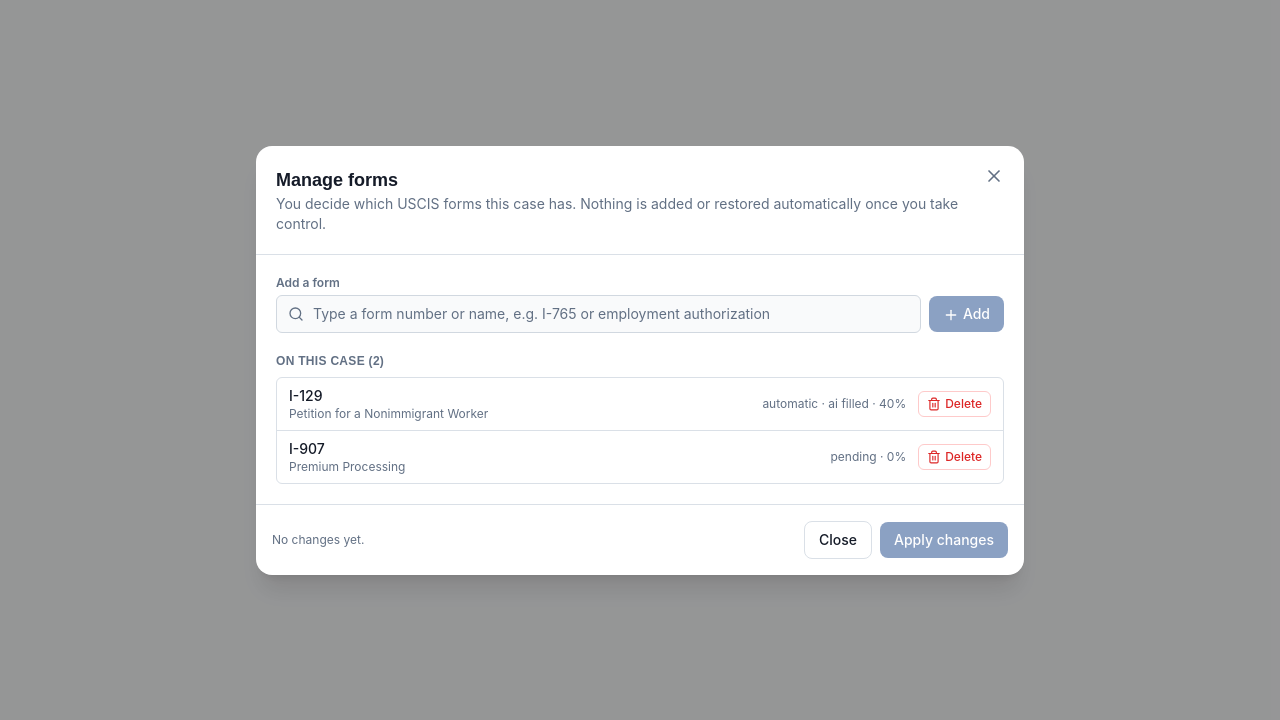
Test: Manage forms › removal is staged, and Apply stays disabled until the confirmations the form needs are given
Expected: the heading "On this case (2)" is shown, [276,354,384,368]
Click the button with aria-label "Delete I-129": (955, 404) [918,390,991,416]
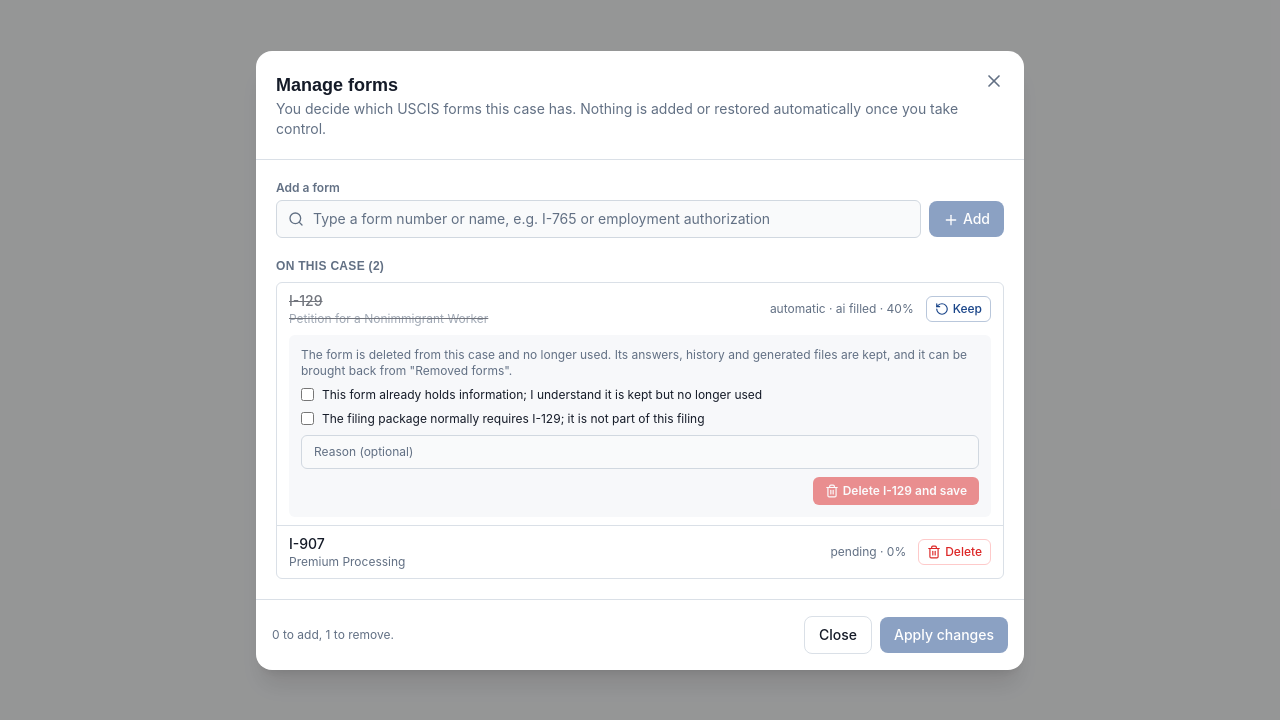
Expected: the button "Apply changes" is disabled, [880,616,1008,652]
Note: I-129 holds data and is required by the filing package: both must be acknowledged
Click the checkbox labelled "already holds information": (308, 394) [301,388,314,401]
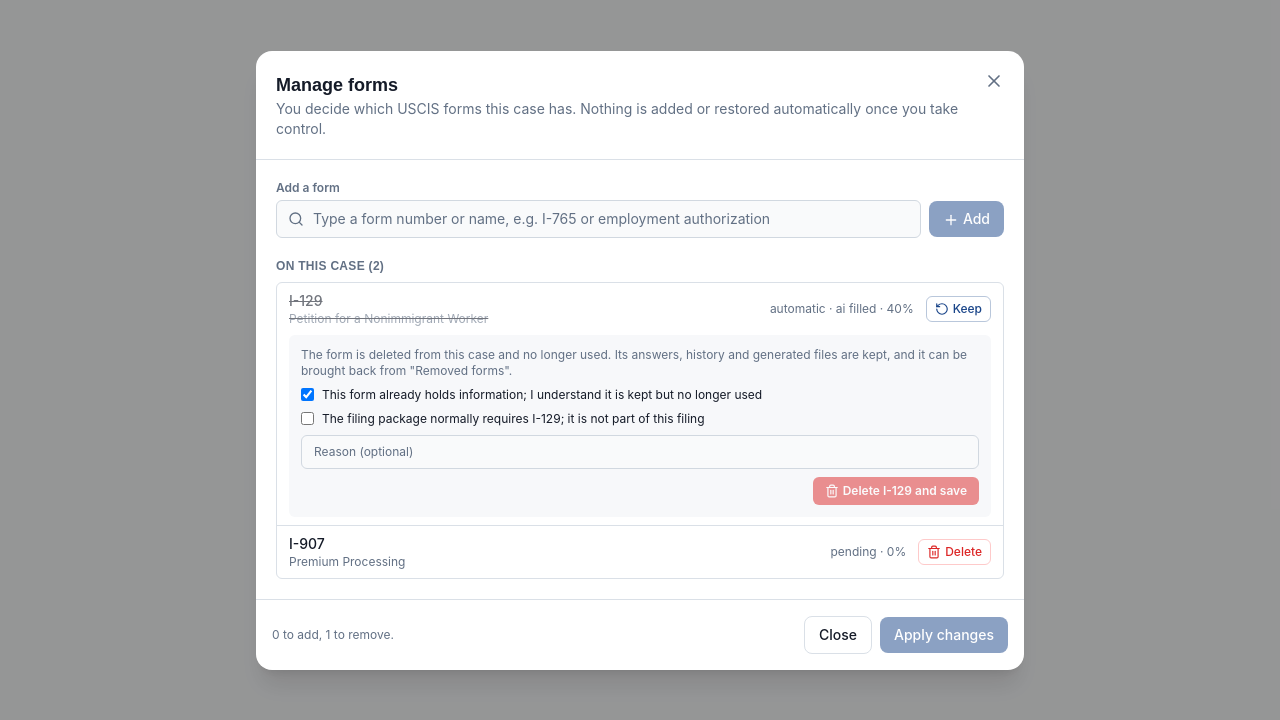
Expected: the button "Apply changes" is disabled, [880,616,1008,652]
Click the checkbox labelled "normally requires I-129": (308, 418) [301,412,314,425]
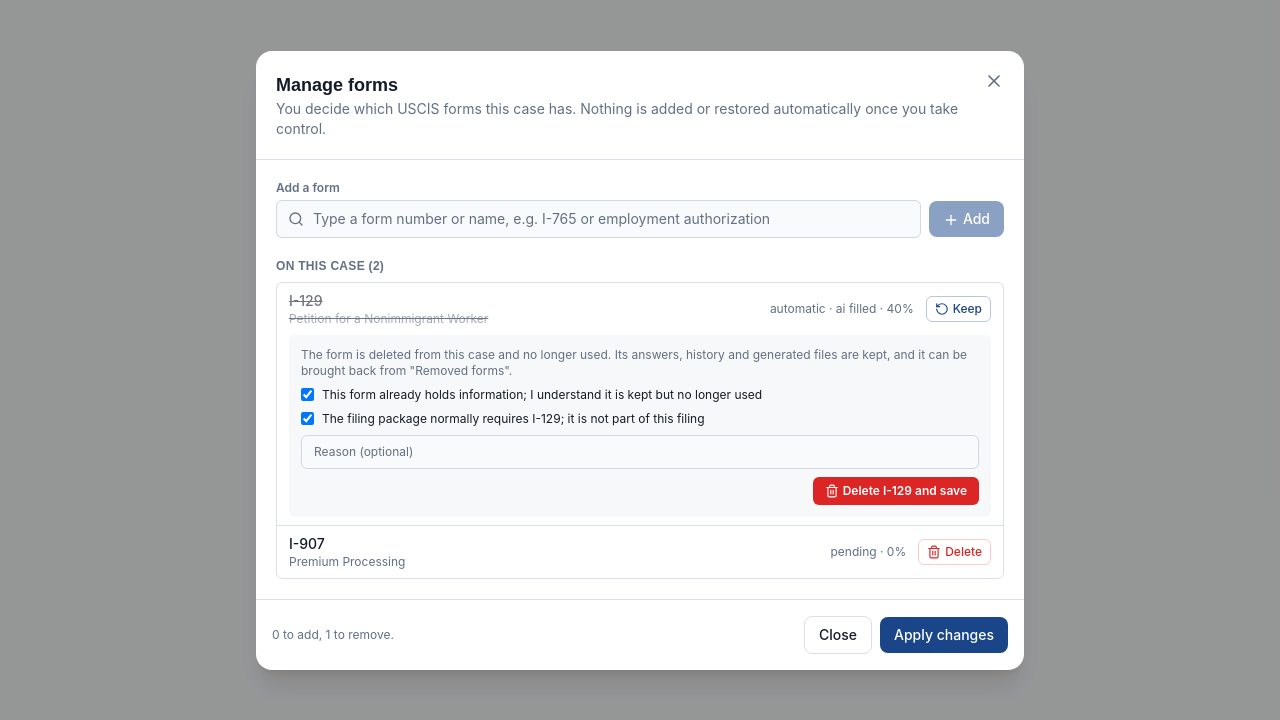
Result: the button "Apply changes" is enabled at [880,616,1008,652]
Note: an empty draft needs nothing
Click the button with aria-label "Keep I-129": (958, 308) [926,296,991,322]
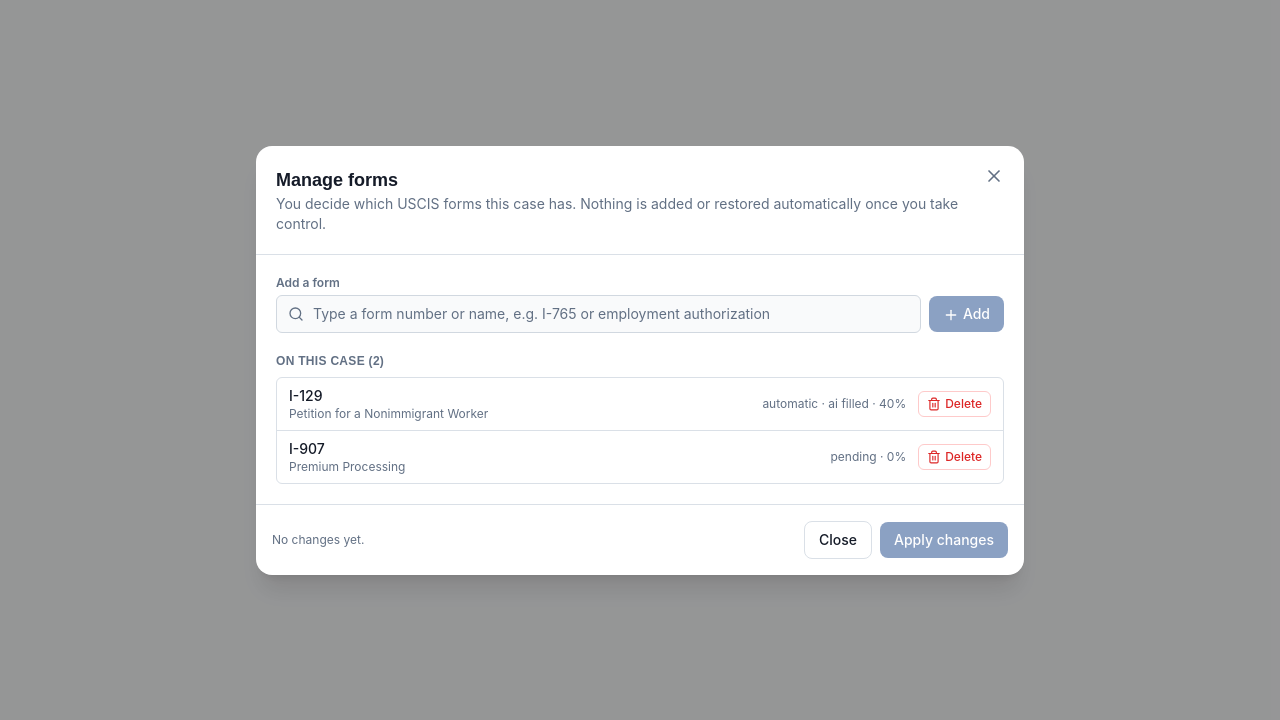
Click the button with aria-label "Delete I-907": (955, 456) [918,444,991,470]
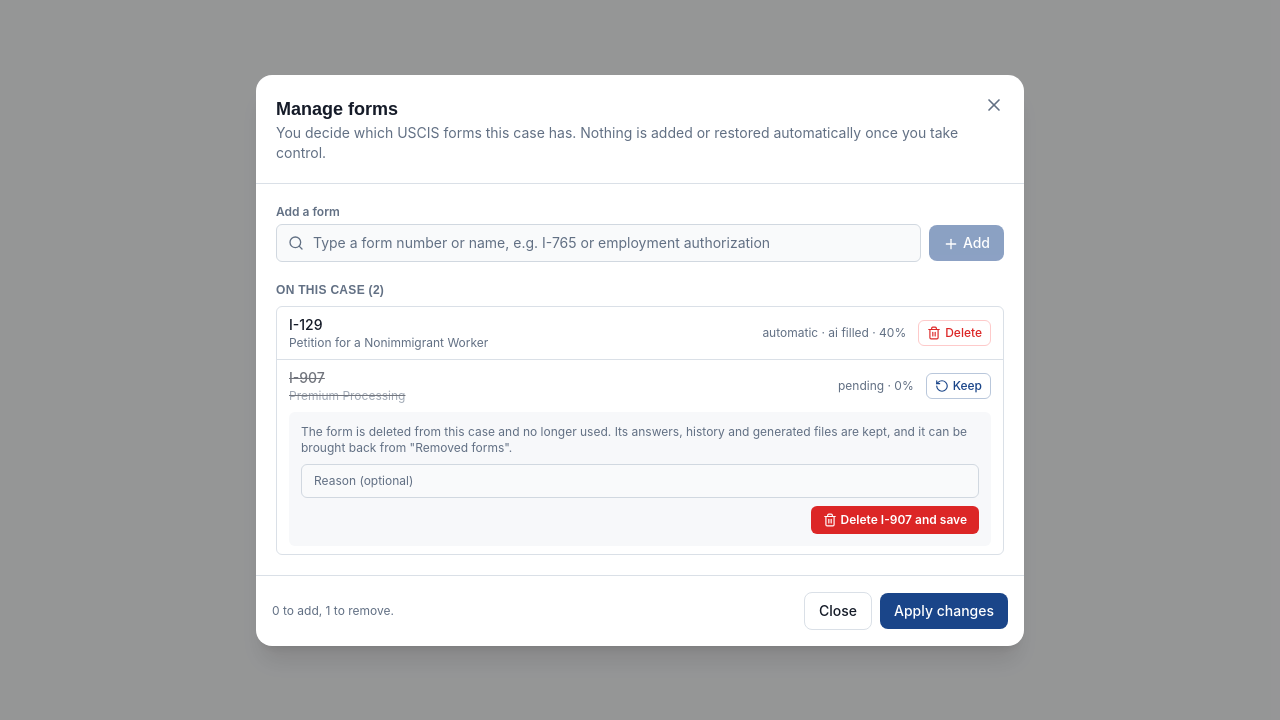
Result: the button "Apply changes" is enabled at [880,592,1008,628]
